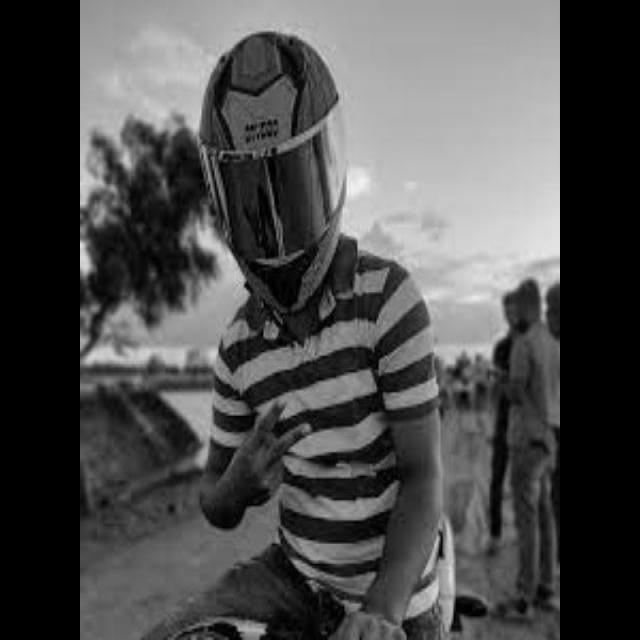5_casco: (198, 30, 350, 314)
